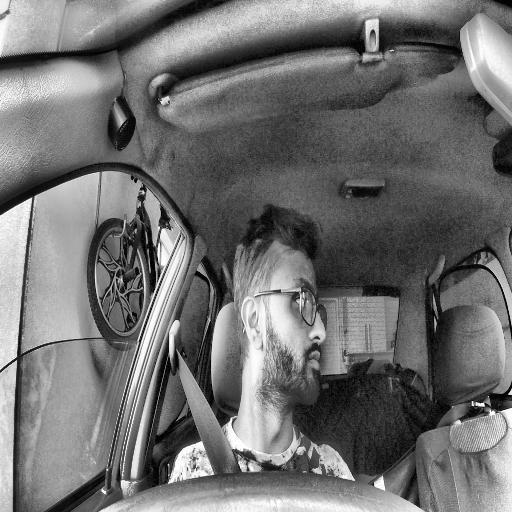awake: (232, 204, 328, 409)
